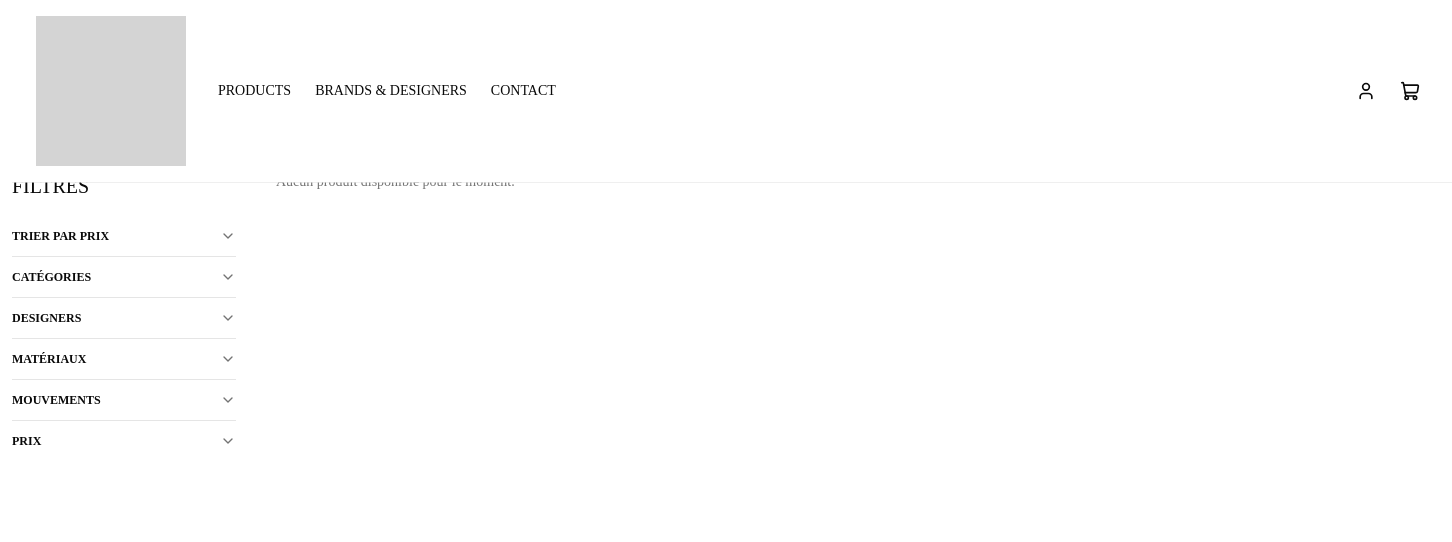
Test: ShopAllPage › lists every designer as a filter checkbox
This screenshot has width=1452, height=542.
Click the button "Designers": (124, 318) [12,298,236,338]
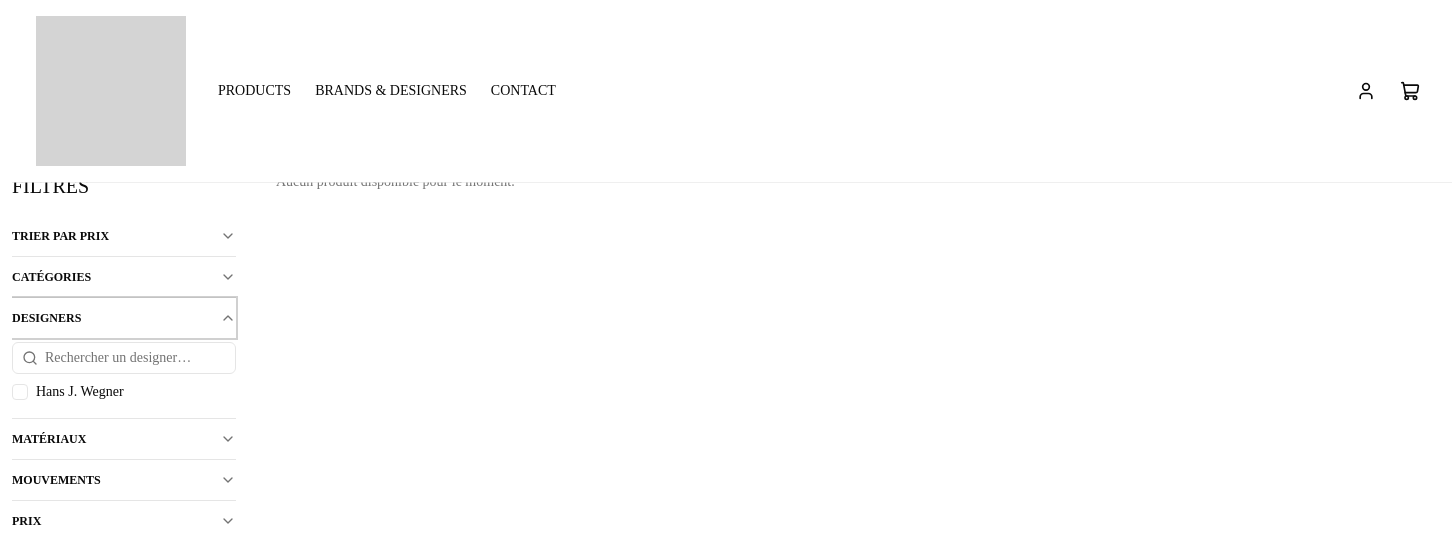
Check: the checkbox named "Hans J. Wegner" is shown, box [12,384,28,400]
